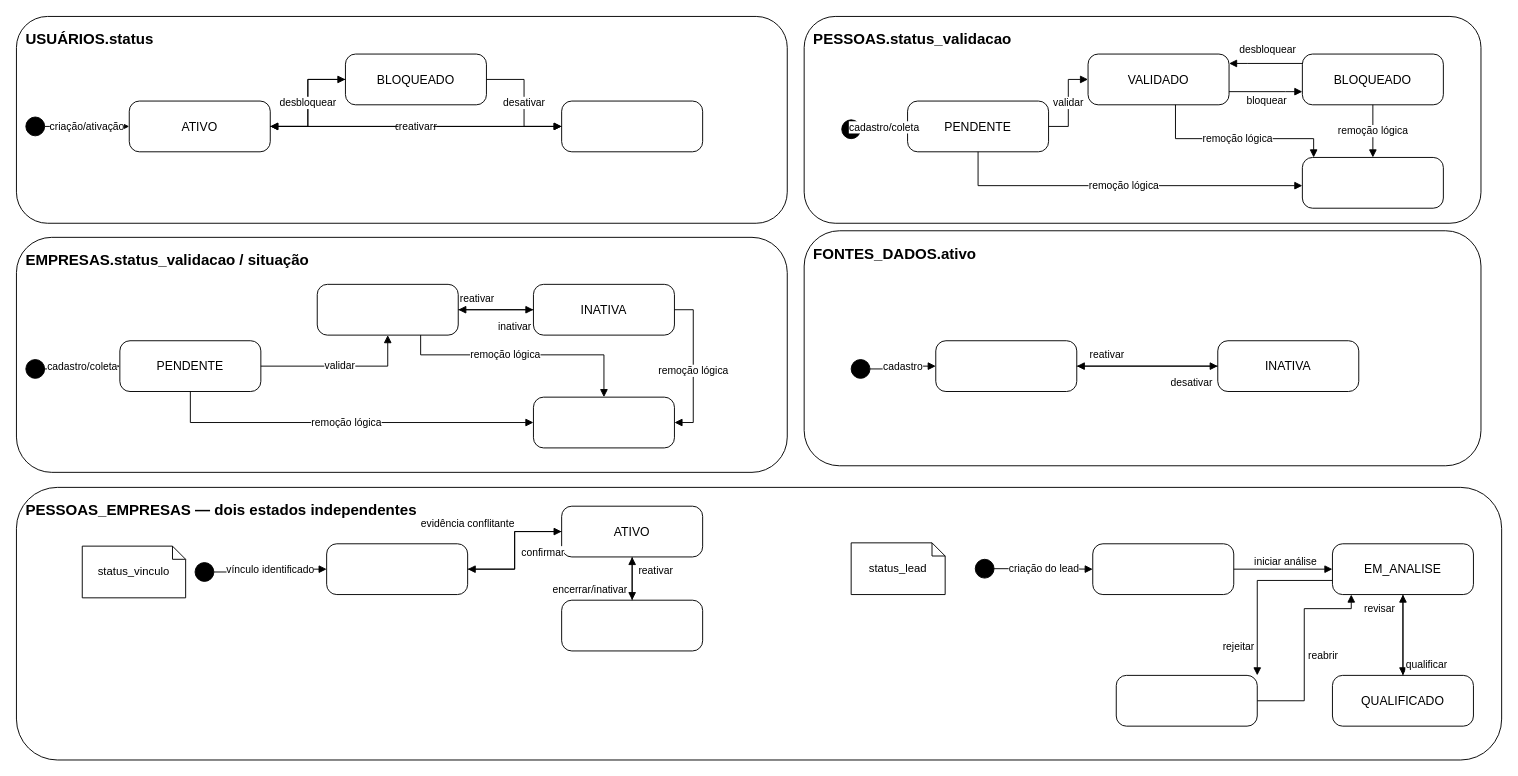
Image size: 1518x776. Some labels were removed from this diagram. The centre of each missing label's shape, as x and y in pixels:
"ATIVA" goes at (1006,366).
"DESATIVADO" goes at (632,126).
"INATIVO" goes at (632,625).
"INCERTO" goes at (397,569).
"NOVO" goes at (1163,569).
"REJEITADO" goes at (1186,700).
"REMOVIDA" goes at (603,422).
"REMOVIDO" goes at (1372,182).
"VALIDADA" goes at (387,309).
